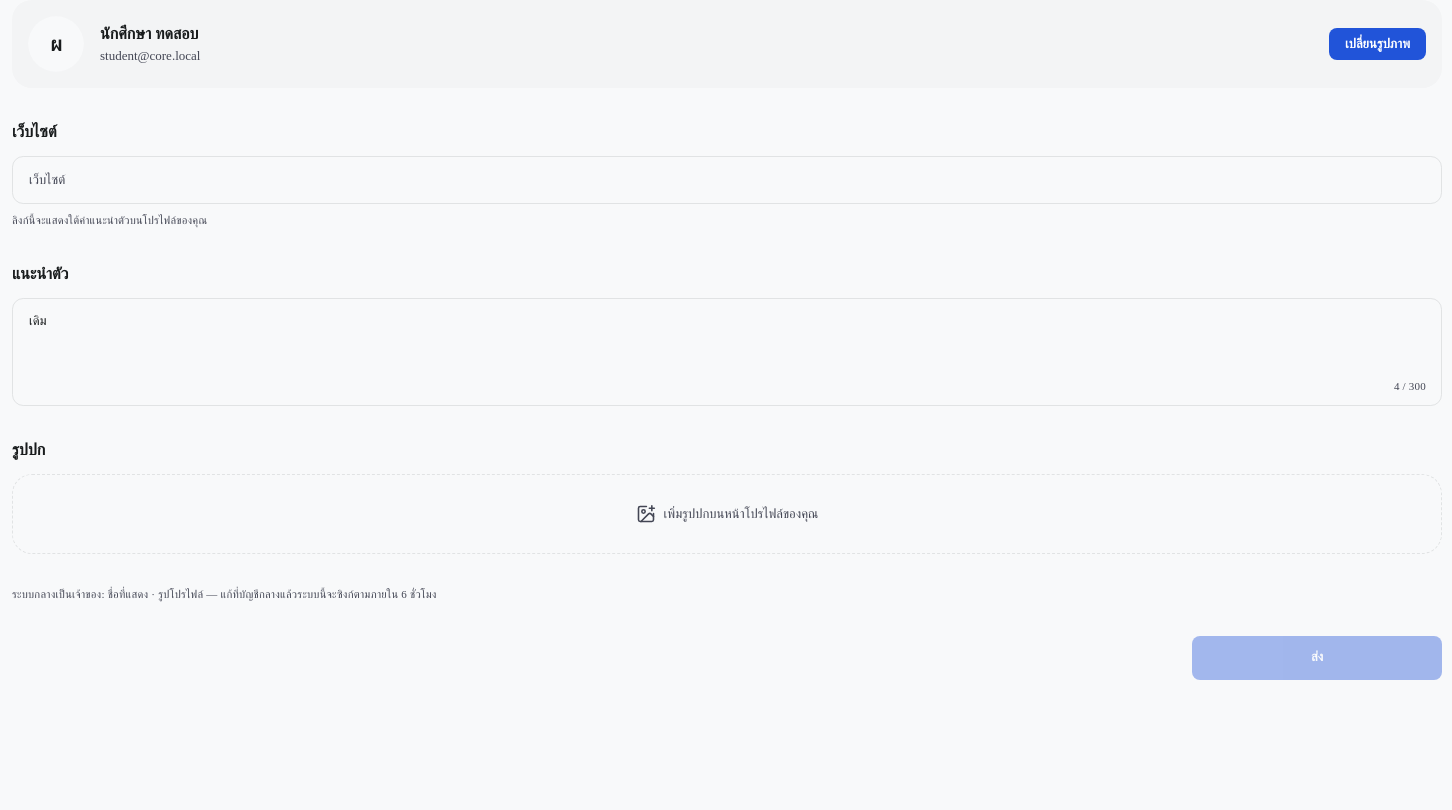
Test: แก้ไขโปรไฟล์ › ข้อความผิดพลาดจากหลังบ้านแสดงตามจริง
Type "!" into the text box labelled "แนะนำตัว" at point(727, 352), box top-left (12, 298), bottom-right (1442, 406)
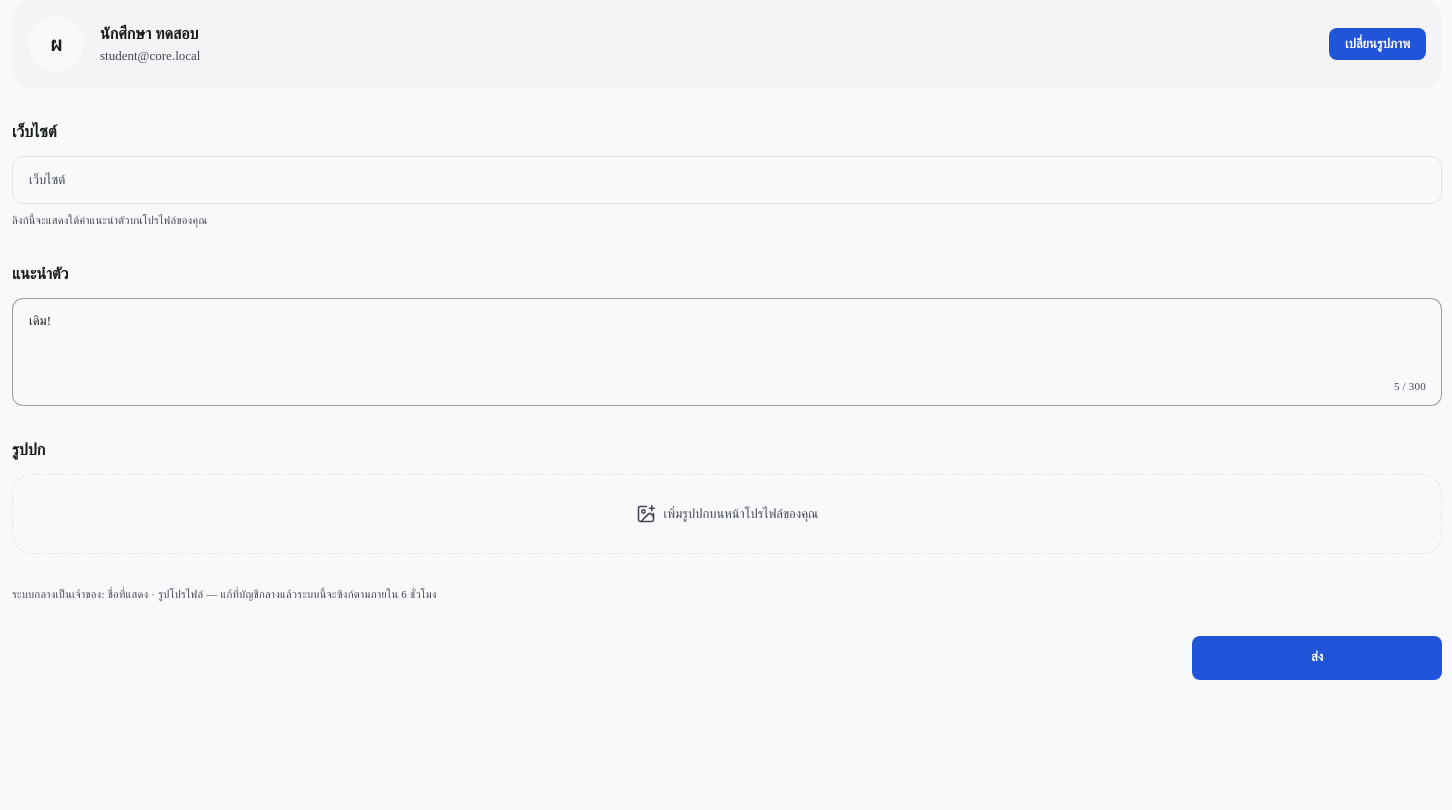
Click the button "ส่ง" at point(1317, 658), box top-left (1192, 636), bottom-right (1442, 680)
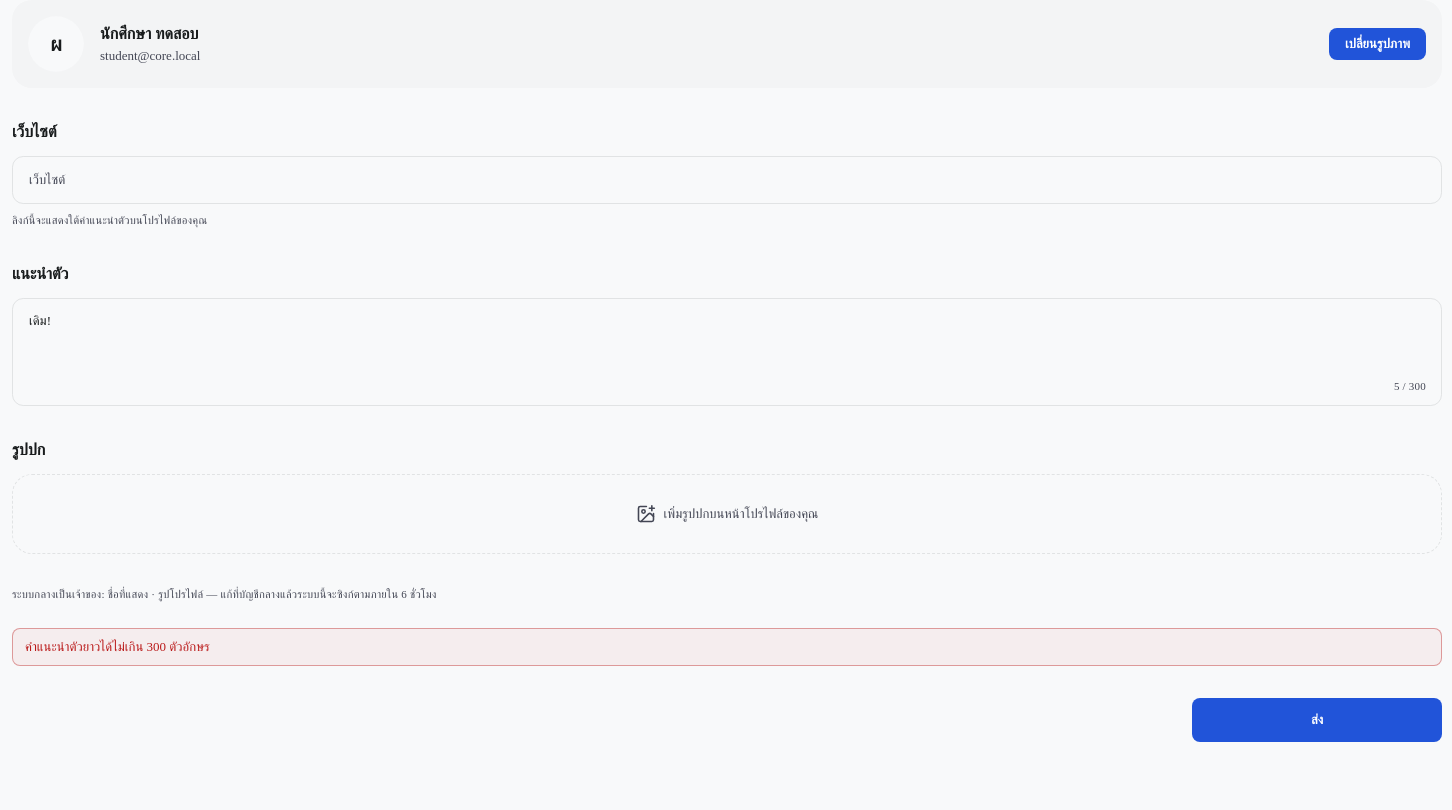
Expected: the message reads "คำแนะนำตัวยาวได้ไม่เกิน 300 ตัวอักษร", top-left (25, 639), bottom-right (210, 654)
